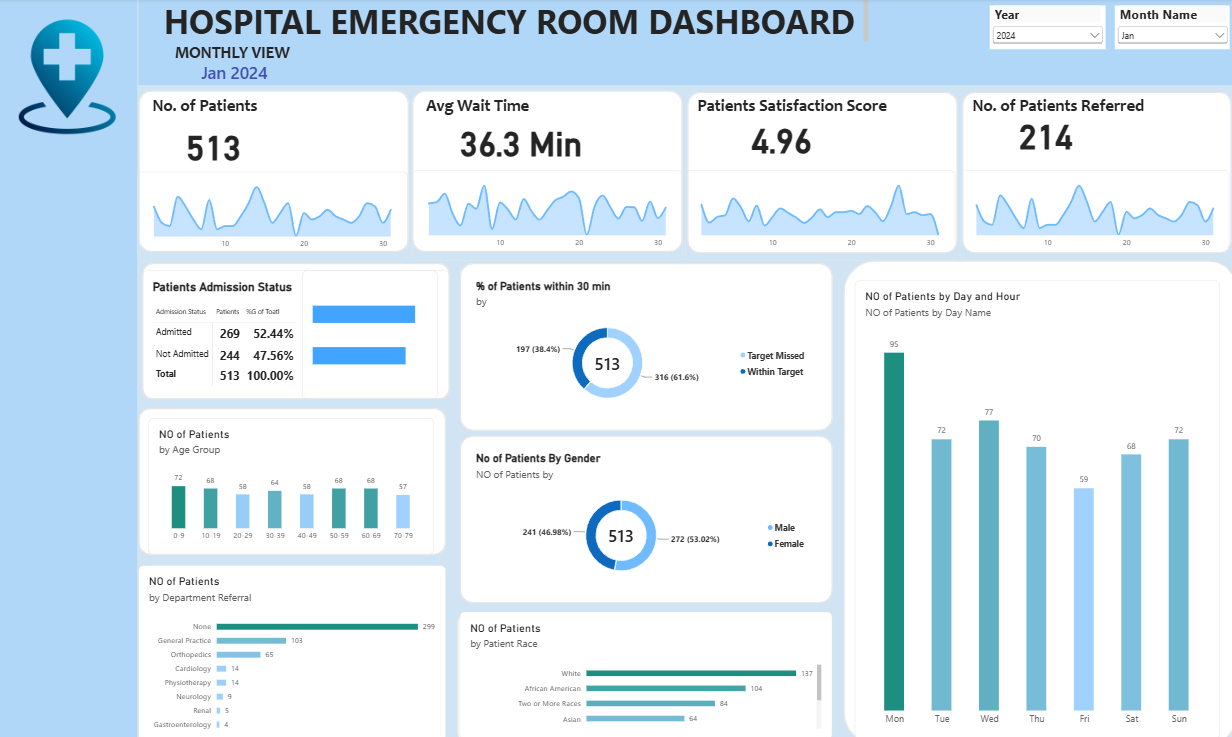

The page's visual inventory and layout, read from the dashboard file:
{"tool":"powerbi","page":{"name":"Page 1","canvas":[2000,1200],"ordinal":0},"visuals":[{"type":"shape","box":[0,0,227.2,1200.4],"z":0},{"type":"shape","box":[228.6,0,1771.3,140.1],"z":1000},{"type":"textbox","box":[254.7,0,1147.8,70.1],"z":2000},{"type":"textbox","box":[287.5,70,195.4,47.1],"z":3000},{"type":"slicer","fields":{"Values":["Date Table.Year"]},"box":[1598,12.9,186.4,70.6],"z":4000},{"type":"slicer","fields":{"Values":["Date Table.Month Name"]},"box":[1798.9,12.9,186.4,70.6],"z":5000},{"type":"cardVisual","fields":{"Data":["Min(Date Table.Month & Year)"]},"box":[282,101.4,204.5,38],"z":6000},{"type":"shape","box":[670.5,149.3,435,260],"z":7000},{"type":"cardVisual","fields":{"Data":["Hospital ER_Data.AVG Wait Time"]},"box":[728.9,212.2,247.3,44.3],"z":8000},{"type":"textbox","box":[692,156.9,195.4,47.1],"z":9000},{"type":"areaChart","fields":{"Category":["Date Table.Date.Variation.Date Hierarchy.Day"],"Y":["Avg(Hospital ER_Data.Patient Waittime)"]},"box":[669.1,278.3,435,145],"z":10000},{"type":"shape","box":[1112.5,149.9,435,260],"z":11000},{"type":"cardVisual","fields":{"Data":["Hospital ER_Data.Satisfaction Score"]},"box":[1197.6,203,145.8,53.5],"z":12000},{"type":"textbox","box":[1127.5,156.9,313.7,36.9],"z":13000},{"type":"areaChart","fields":{"Category":["Date Table.Date.Variation.Date Hierarchy.Day"],"Y":["Hospital ER_Data.Satisfaction Score"]},"box":[1107.7,278.3,435,145],"z":14000},{"type":"shape","box":[1554.5,149.9,435,260],"z":15000},{"type":"cardVisual","fields":{"Data":["Hospital ER_Data.NO of Patients Referred"]},"box":[1629.5,193.8,138.4,62.7],"z":16000},{"type":"textbox","box":[1570.4,156.9,298.9,36.9],"z":17000},{"type":"areaChart","fields":{"Category":["Date Table.Date.Variation.Date Hierarchy.Day"],"Y":["Hospital ER_Data.NO of Patients"]},"box":[1550.1,278.3,435,145],"z":18000},{"type":"shape","box":[228.6,149.3,435,260],"z":19000},{"type":"cardVisual","fields":{"Data":["Hospital ER_Data.NO of Patients"]},"box":[287.5,203.1,158.8,74.4],"z":20000},{"type":"shape","box":[234.4,426.3,494.6,219.6],"z":21000},{"type":"textbox","box":[251,156.9,195.4,47.1],"z":22000},{"type":"areaChart","fields":{"Category":["Date Table.Date.Variation.Date Hierarchy.Day"],"Y":["Hospital ER_Data.NO of Patients"]},"box":[226.7,280.2,435,145],"z":23000},{"type":"pivotTable","title":"Patients Admission Status","fields":{"Rows":["Hospital ER_Data.Admission Status"],"Values":["Hospital ER_Data.NO of Patients1","Hospital ER_Data.NO of Patients"]},"box":[234.4,439.2,494.6,206.7],"z":24000},{"type":"barChart","fields":{"Category":["Hospital ER_Data.Admission Status"],"Y":["Hospital ER_Data.NO of Patients"]},"box":[492.7,439.2,217.8,206.7],"z":25000},{"type":"shape","box":[228.8,658.8,494.6,236.2],"z":26000},{"type":"clusteredColumnChart","fields":{"Category":["Hospital ER_Data.Age Group"],"Y":["Hospital ER_Data.NO of Patients"]},"box":[245.4,675.4,459.5,219.6],"z":27000},{"type":"shape","box":[229.2,912.9,494.6,287.5],"z":28000},{"type":"clusteredBarChart","fields":{"Category":["Hospital ER_Data.Department Referral"],"Y":["Hospital ER_Data.NO of Patients"]},"box":[229.2,912.9,494.6,287.5],"z":29000},{"type":"shape","box":[746,426.3,600,270],"z":30000},{"type":"donutChart","title":"% of Patients within 30 min","fields":{"Category":["Hospital ER_Data.Wait Time"],"Y":["Hospital ER_Data.NO of Patients"]},"box":[756,438.3,569,237.3],"z":31000},{"type":"shape","box":[746.3,703.3,600,270],"z":32000},{"type":"donutChart","title":"No of Patients By Gender","fields":{"Category":["Hospital ER_Data.Patient Gender"],"Y":["Hospital ER_Data.NO of Patients"]},"box":[756.4,715.4,569,237.3],"z":33000},{"type":"shape","box":[742,987.3,603.2,213.1],"z":34000},{"type":"clusteredBarChart","fields":{"Category":["Hospital ER_Data.Patient Race"],"Y":["Hospital ER_Data.NO of Patients"]},"box":[746,987.3,599.2,205.1],"z":35000},{"type":"shape","box":[1363.3,422.3,637.4,778.2],"z":36000},{"type":"columnChart","title":"NO of Patients by Day and Hour","fields":{"Category":["Date Table.Day Name"],"Y":["Hospital ER_Data.NO of Patients"]},"box":[1381.4,454.4,587.1,737.9],"z":37000},{"type":"image","box":[22.1,0,185,253.4],"z":38000}]}

Visuals, with their boxes in screenshot pixels (x1, y1, x2, y2), scaled from the page's 2000x1200 canvas onto the 1232x737 screenshot:
shape: <region>0, 0, 140, 736</region>
shape: <region>141, 0, 1231, 86</region>
textbox: <region>157, 0, 864, 43</region>
textbox: <region>177, 43, 297, 72</region>
slicer - Date Table.Year: <region>984, 8, 1099, 51</region>
slicer - Date Table.Month Name: <region>1108, 8, 1223, 51</region>
cardVisual - Min(Date Table.Month & Year): <region>174, 62, 300, 86</region>
shape: <region>413, 92, 681, 251</region>
cardVisual - Hospital ER_Data.AVG Wait Time: <region>449, 130, 601, 158</region>
textbox: <region>426, 96, 547, 125</region>
areaChart - Date Table.Date.Variation.Date Hierarchy.Day x Avg(Hospital ER_Data.Patient Waittime): <region>412, 171, 680, 260</region>
shape: <region>685, 92, 953, 252</region>
cardVisual - Hospital ER_Data.Satisfaction Score: <region>738, 125, 828, 158</region>
textbox: <region>695, 96, 888, 119</region>
areaChart - Date Table.Date.Variation.Date Hierarchy.Day x Hospital ER_Data.Satisfaction Score: <region>682, 171, 950, 260</region>
shape: <region>958, 92, 1226, 252</region>
cardVisual - Hospital ER_Data.NO of Patients Referred: <region>1004, 119, 1089, 158</region>
textbox: <region>967, 96, 1151, 119</region>
areaChart - Date Table.Date.Variation.Date Hierarchy.Day x Hospital ER_Data.NO of Patients: <region>955, 171, 1223, 260</region>
shape: <region>141, 92, 409, 251</region>
cardVisual - Hospital ER_Data.NO of Patients: <region>177, 125, 275, 170</region>
shape: <region>144, 262, 449, 397</region>
textbox: <region>155, 96, 275, 125</region>
areaChart - Date Table.Date.Variation.Date Hierarchy.Day x Hospital ER_Data.NO of Patients: <region>140, 172, 408, 261</region>
"Patients Admission Status" pivotTable: <region>144, 270, 449, 397</region>
barChart - Hospital ER_Data.Admission Status x Hospital ER_Data.NO of Patients: <region>304, 270, 438, 397</region>
shape: <region>141, 405, 446, 550</region>
clusteredColumnChart - Hospital ER_Data.Age Group x Hospital ER_Data.NO of Patients: <region>151, 415, 434, 550</region>
shape: <region>141, 561, 446, 736</region>
clusteredBarChart - Hospital ER_Data.Department Referral x Hospital ER_Data.NO of Patients: <region>141, 561, 446, 736</region>
shape: <region>460, 262, 829, 428</region>
"% of Patients within 30 min" donutChart: <region>466, 269, 816, 415</region>
shape: <region>460, 432, 829, 598</region>
"No of Patients By Gender" donutChart: <region>466, 439, 816, 585</region>
shape: <region>457, 606, 829, 736</region>
clusteredBarChart - Hospital ER_Data.Patient Race x Hospital ER_Data.NO of Patients: <region>460, 606, 829, 732</region>
shape: <region>840, 259, 1231, 736</region>
"NO of Patients by Day and Hour" columnChart: <region>851, 279, 1213, 732</region>
image: <region>14, 0, 128, 156</region>
